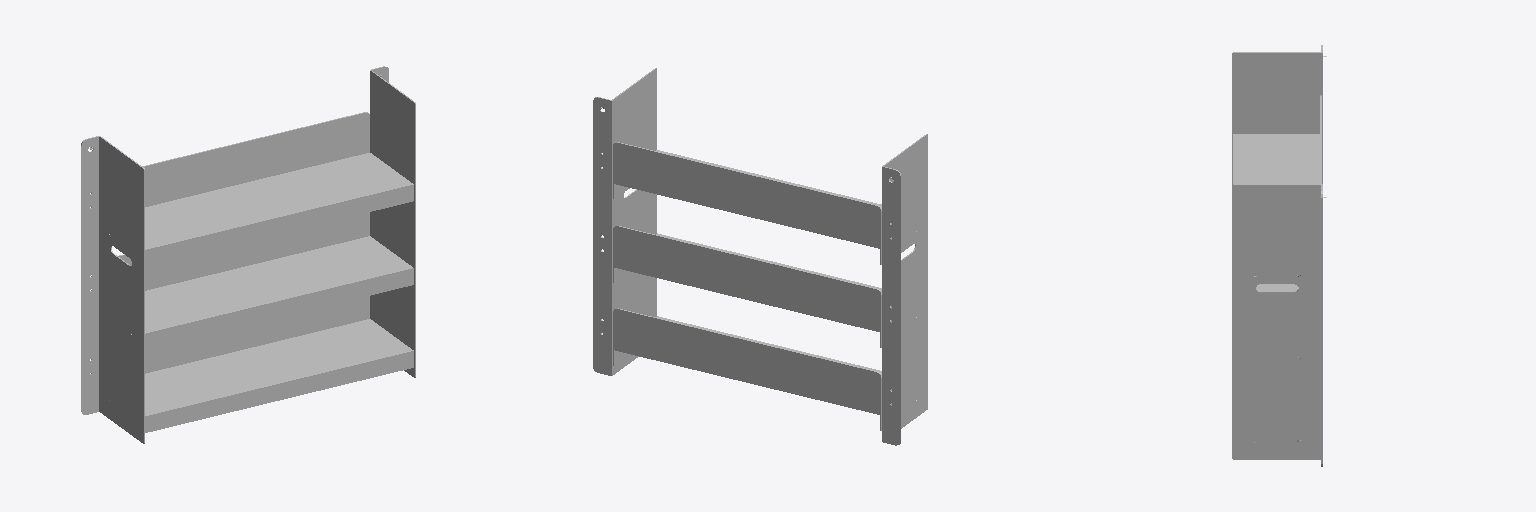
Rendered from shelf-045.obj.
3 renders of one model, left to right at view 1: azimuth 30°, elevation 25°; view 2: azimuth 150°, elevation 25°; view 3: azimuth 270°, elevation 25°, orthographic.
Visible parts, largest first — view 1: shelf-045; view 2: shelf-045; view 3: shelf-045.
Part boxes in pixels (x1,y1,x2,y2): shelf-045: (81,66,415,443); shelf-045: (593,68,927,445); shelf-045: (1232,45,1326,466).
Size of the model in its own units: 0.6107 by 0.5218 by 0.1637.